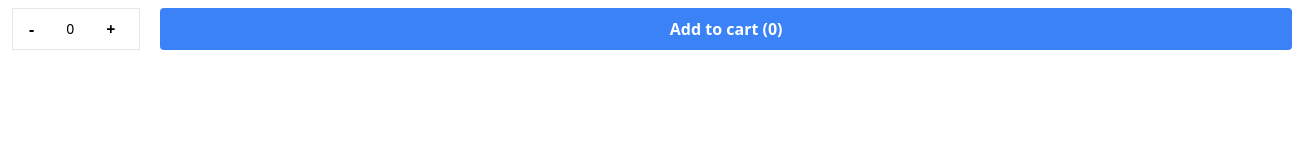
Test: AddToCartComponent › should increment count when '+' button is clicked
Click the button "+". click: x=111, y=29
box: [90,9,131,49]
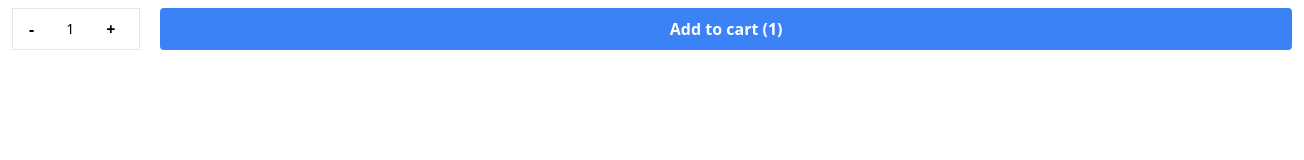
Expected: the number field with test id "count-input" holds "1", [50,9,90,49]
